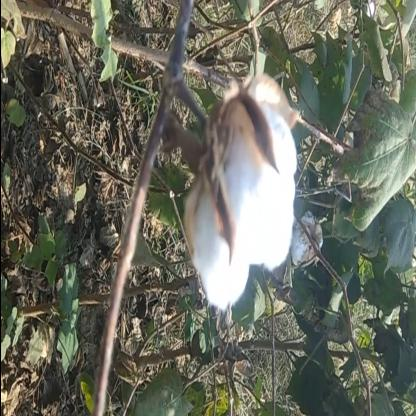cotton_ready: (140, 82, 306, 314)
